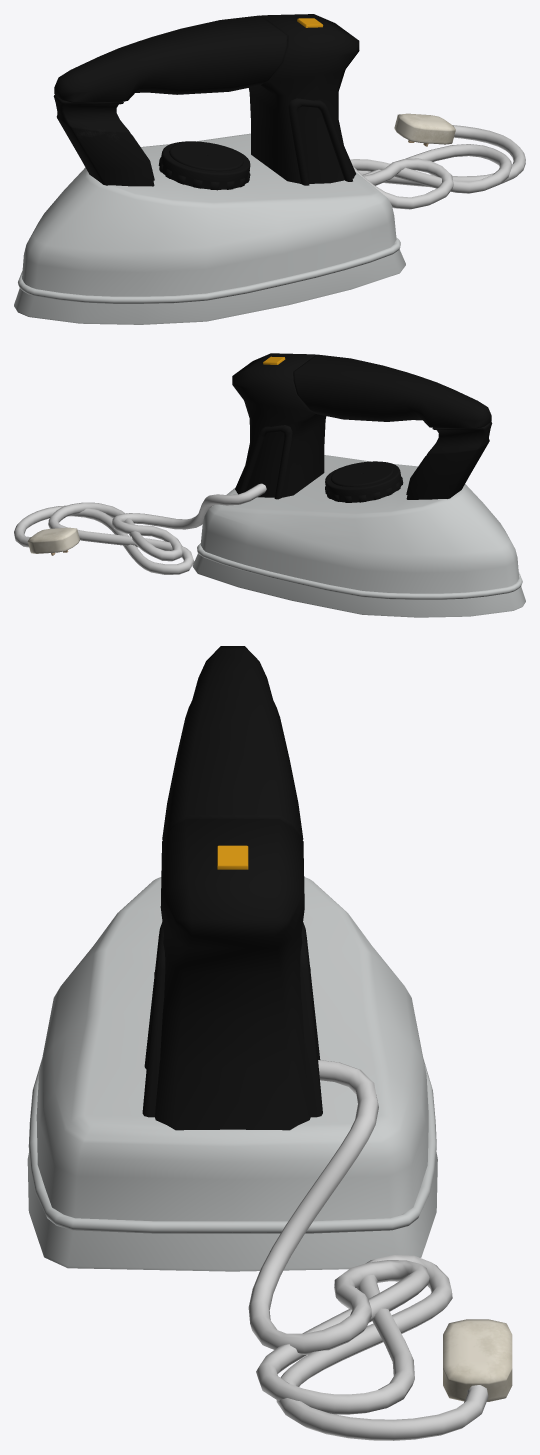
The model's file is Iron.FBX.
3 views of the same model, one above another, from view 1: azimuth 30°, elevation 25°; view 2: azimuth 150°, elevation 25°; view 3: azimuth 270°, elevation 25° (orthographic). The views are drawn at different scales.
Visible parts, largest first — view 1: Iron, Iron_cable; view 2: Iron, Iron_cable; view 3: Iron, Iron_cable.
Boxes of the visible parts, box(x1,y1,x2,y2) form: Iron: box(14, 14, 455, 324); Iron_cable: box(350, 125, 525, 209); Iron: box(27, 353, 525, 617); Iron_cable: box(14, 483, 266, 574); Iron: box(27, 646, 512, 1401); Iron_cable: box(248, 1060, 488, 1440).
Size of the model in its own units: 31.54 by 14.34 by 13.26.
